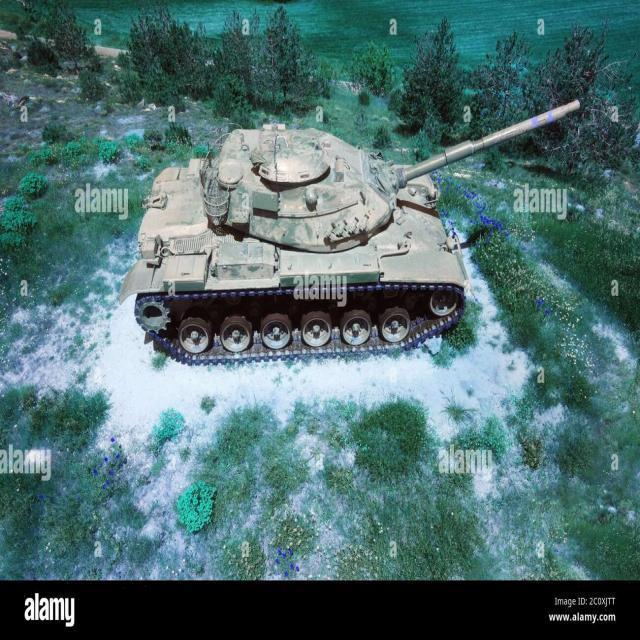Tanks: (120, 96, 580, 369)
